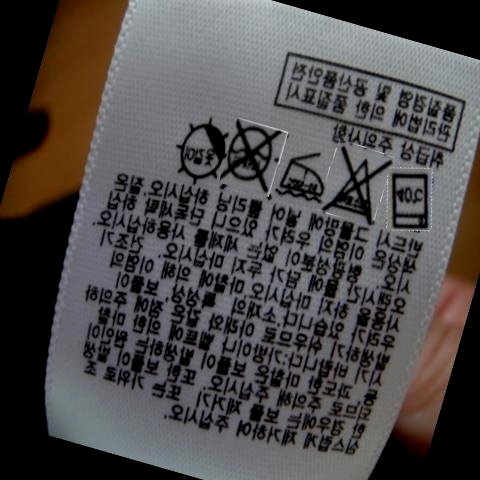40C: (388, 169, 436, 233)
DN_dry_clean: (230, 115, 274, 189)
iron_low: (280, 150, 326, 203)
line_dry_in_shade: (174, 116, 224, 182)
non_chlorine_bleach: (329, 144, 385, 222)
